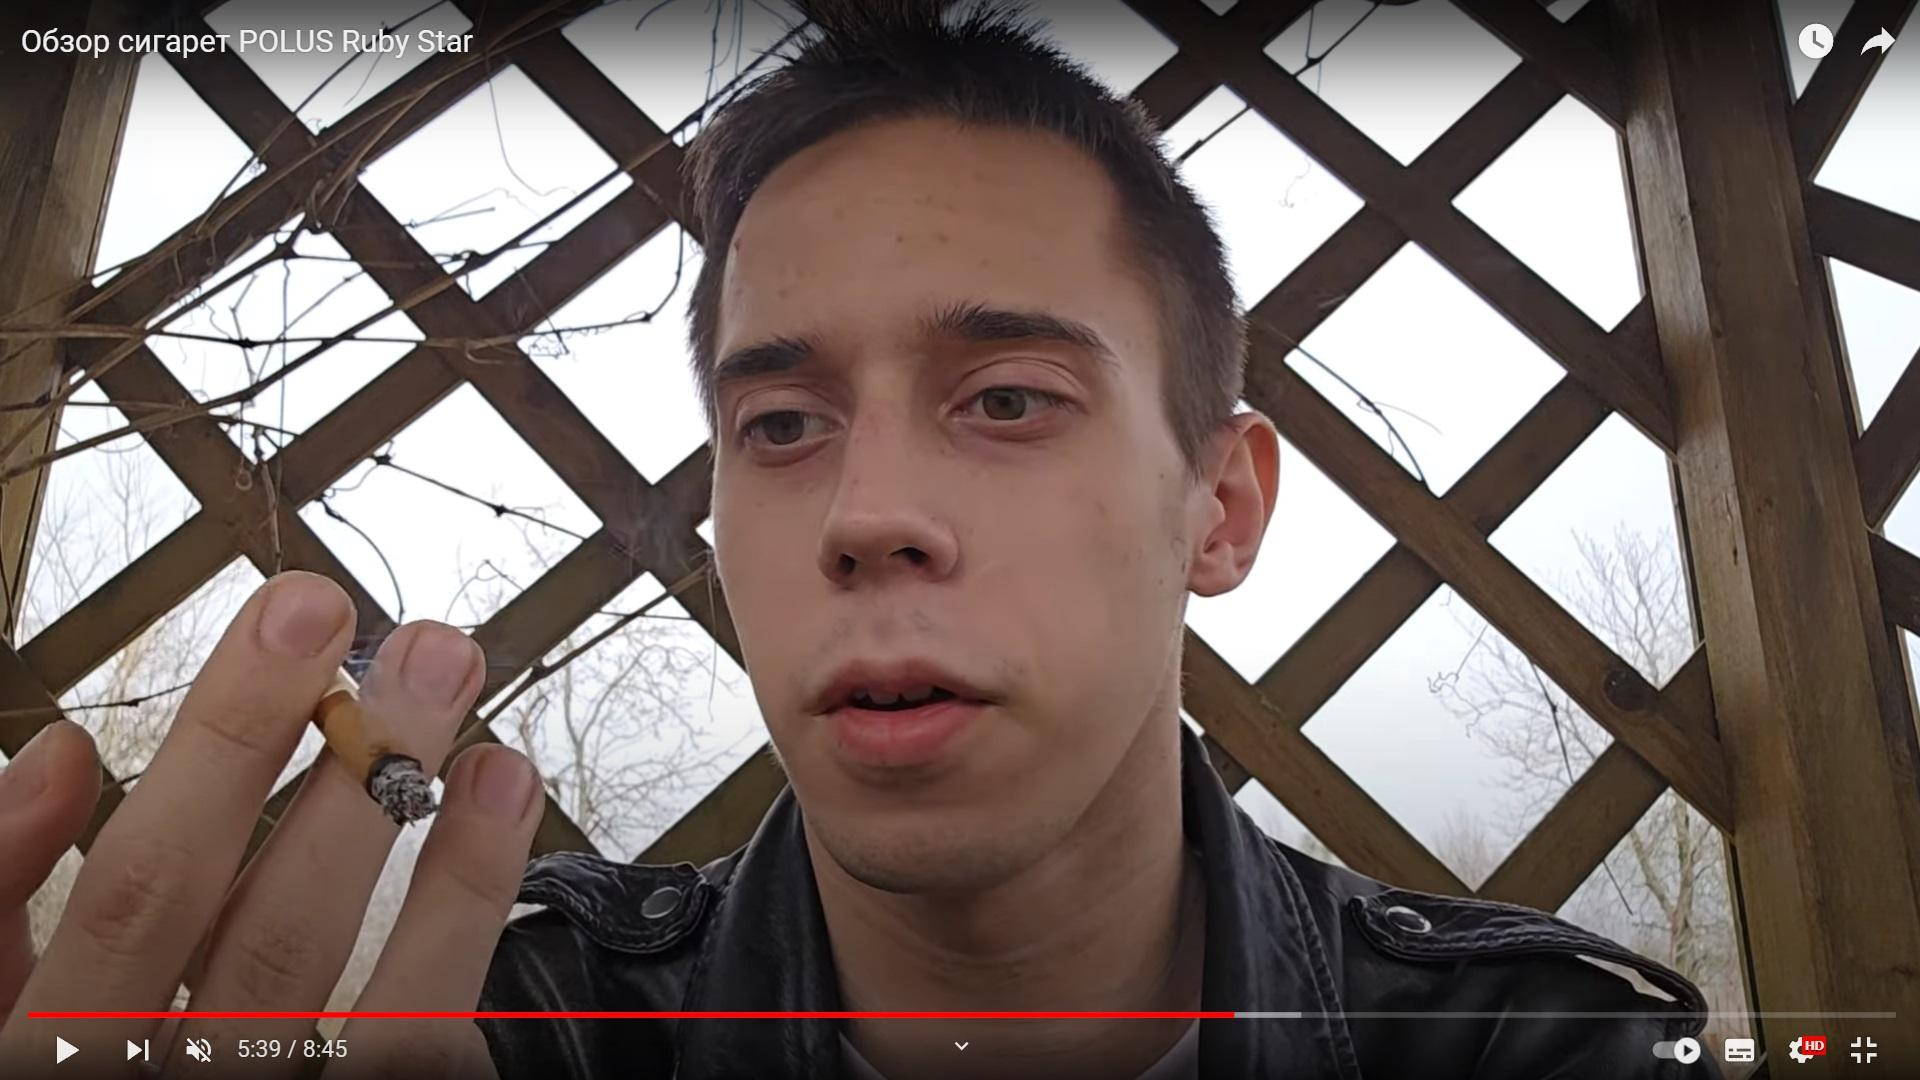cigarette: (310, 671, 442, 825)
